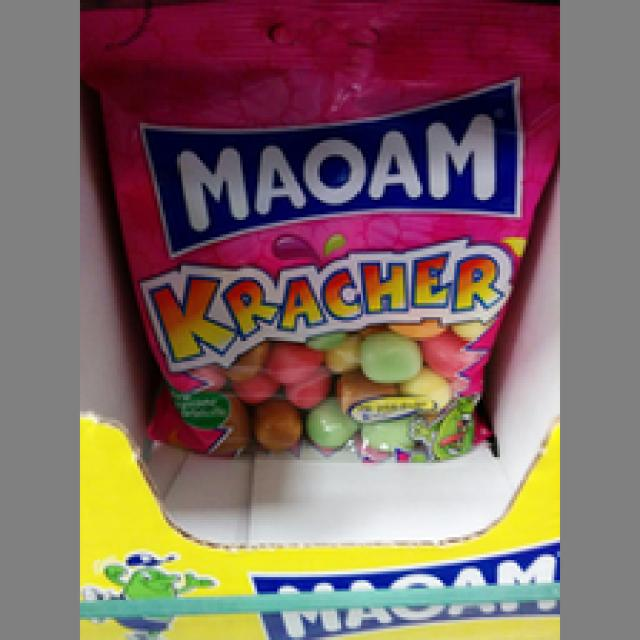groceries: (77, 6, 557, 454)
